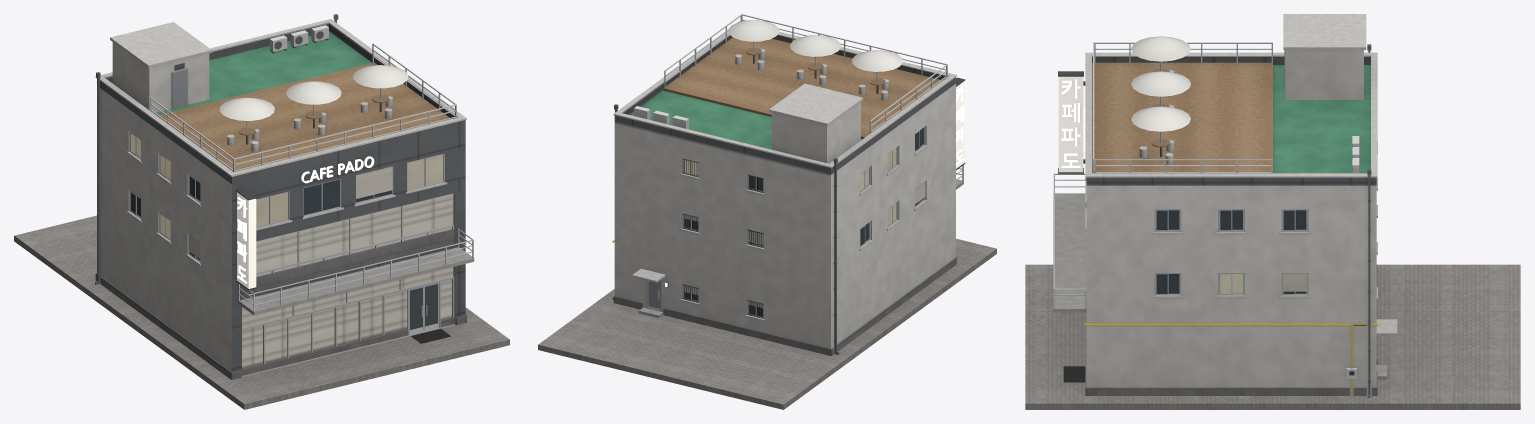
Rendered from IlsanCafe01.fbx.
The picture shows the model from 3 angles, left to right: view 1: azimuth 30°, elevation 25°; view 2: azimuth 150°, elevation 25°; view 3: azimuth 270°, elevation 25°; orthographic projection. The views are drawn at different scales.
Parts seen in each view (by area): view 1: IlsanCafe01; view 2: IlsanCafe01; view 3: IlsanCafe01.
Part boxes in pixels (x1,y1,x2,y2): IlsanCafe01: (14,14,509,409); IlsanCafe01: (538,14,996,409); IlsanCafe01: (1025,14,1520,409).
Bounding box in the file's own units: 15.9 × 14.35 × 23.9.
Materials: 1 (1 with a texture image).
